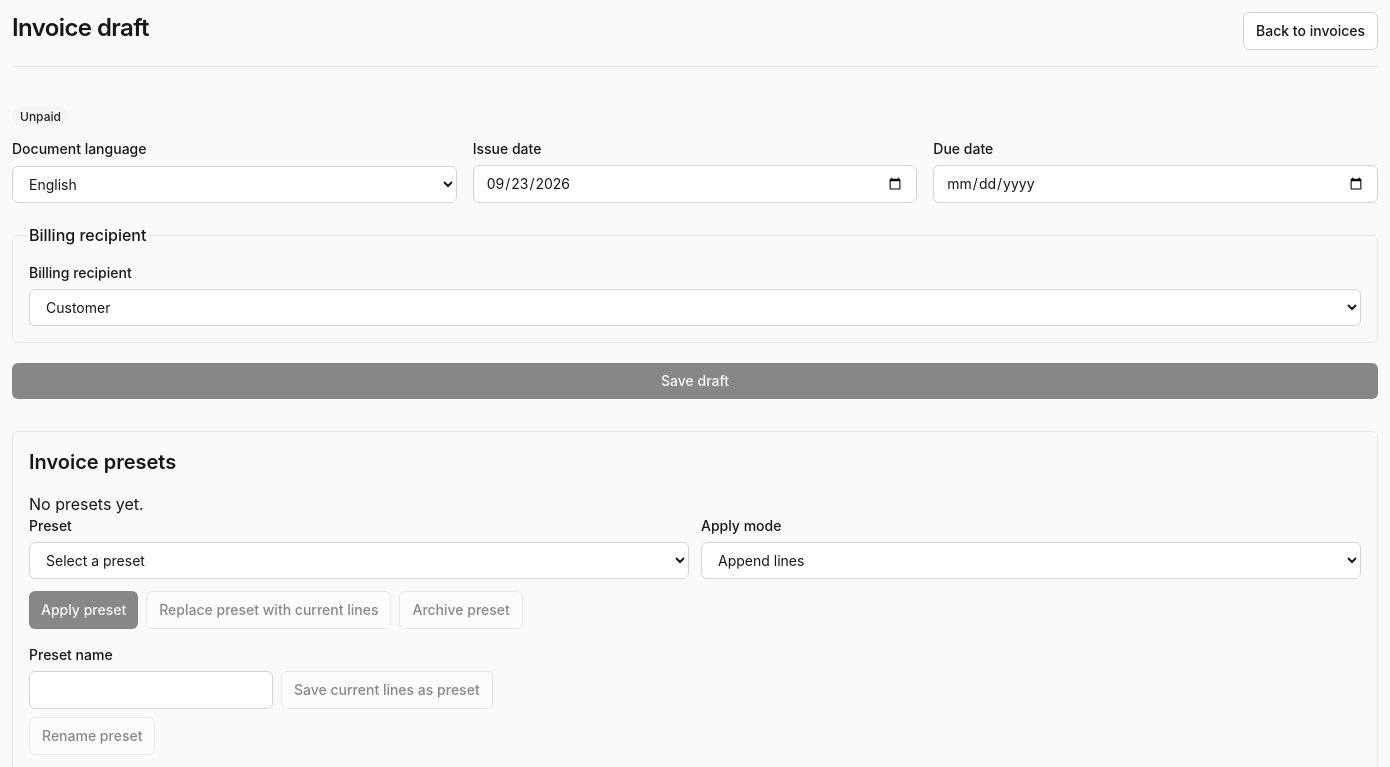
Scenario: draft invoice page › shows field validation and keeps unsaved changes for review
Type "2026-01-01" into the date field labelled "Due date" at (1156, 184), box [933,165,1378,203]
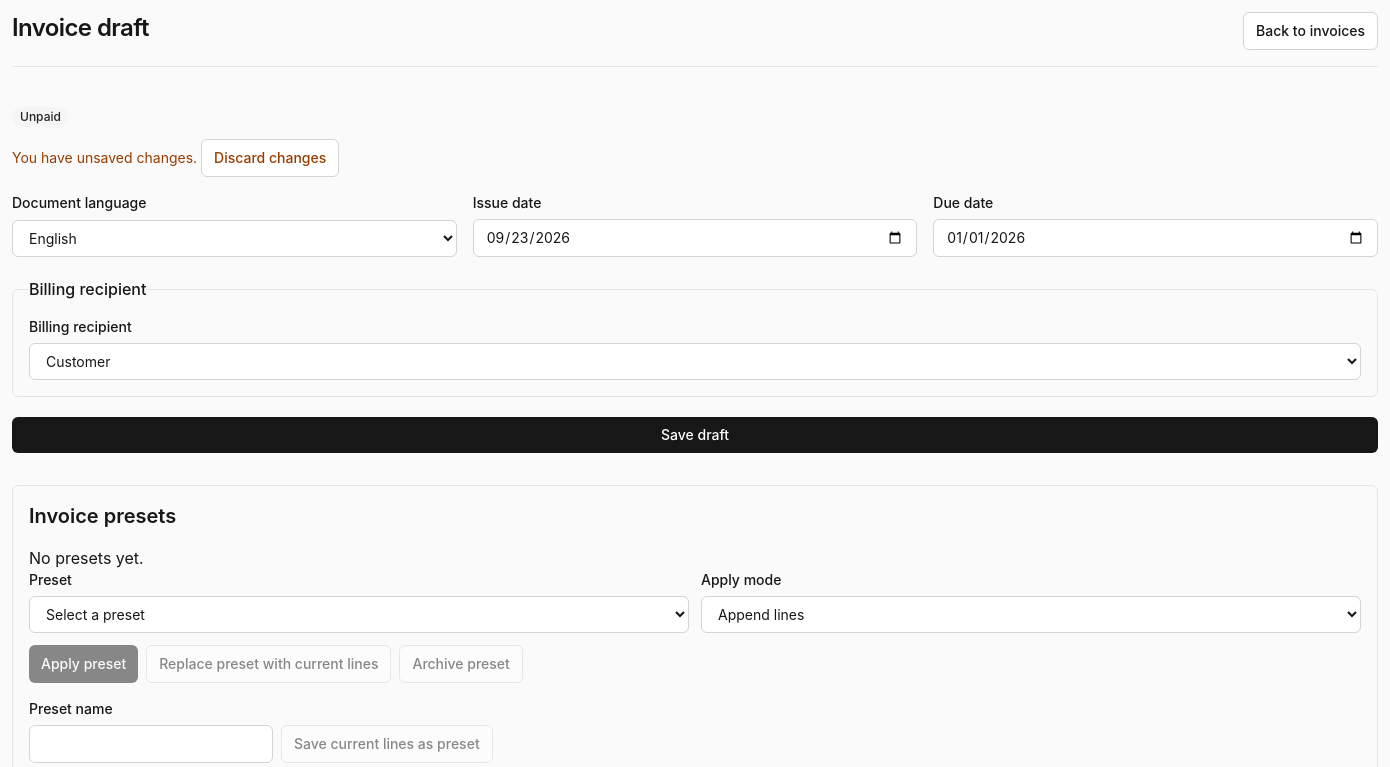
Click the button "Save draft" at (695, 435), box [12,417,1378,453]
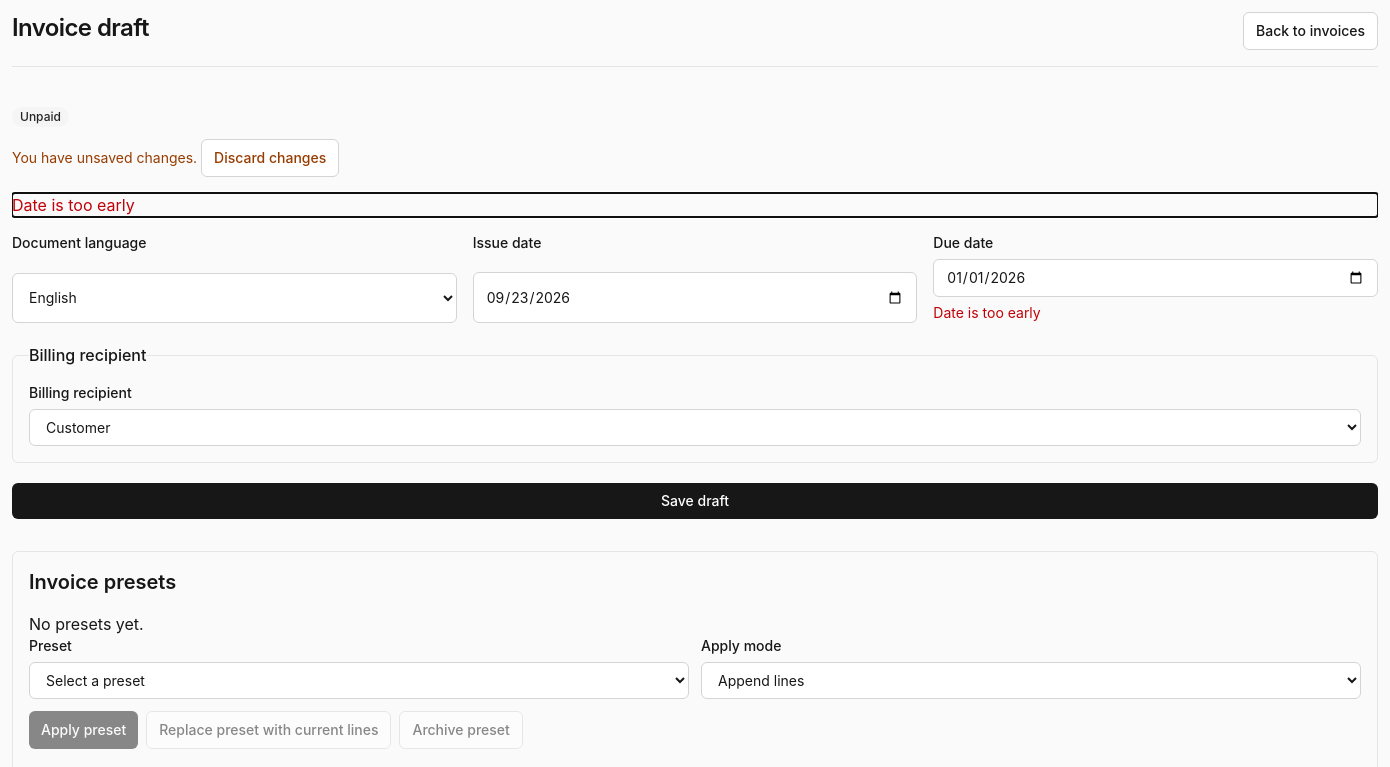
Expected: the message "You have unsaved changes. Discard changes" is shown, [12,139,339,177]
Expected: the text "Date is too early" is shown 2 times, [12,195,135,215]; [933,304,1041,321]
